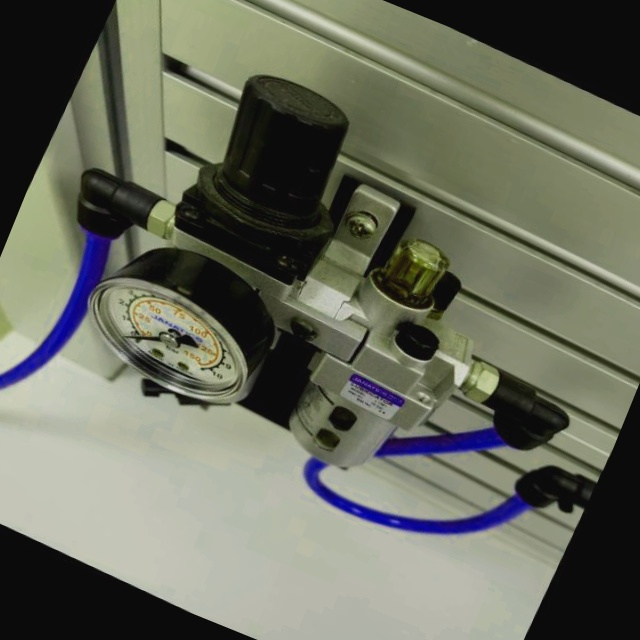FRL unit: (0, 0, 590, 560)
